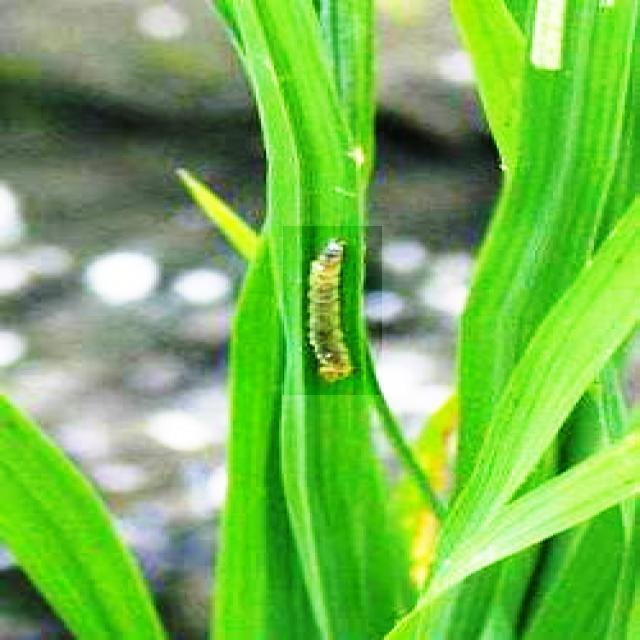leaf-folder: (283, 226, 382, 395)
